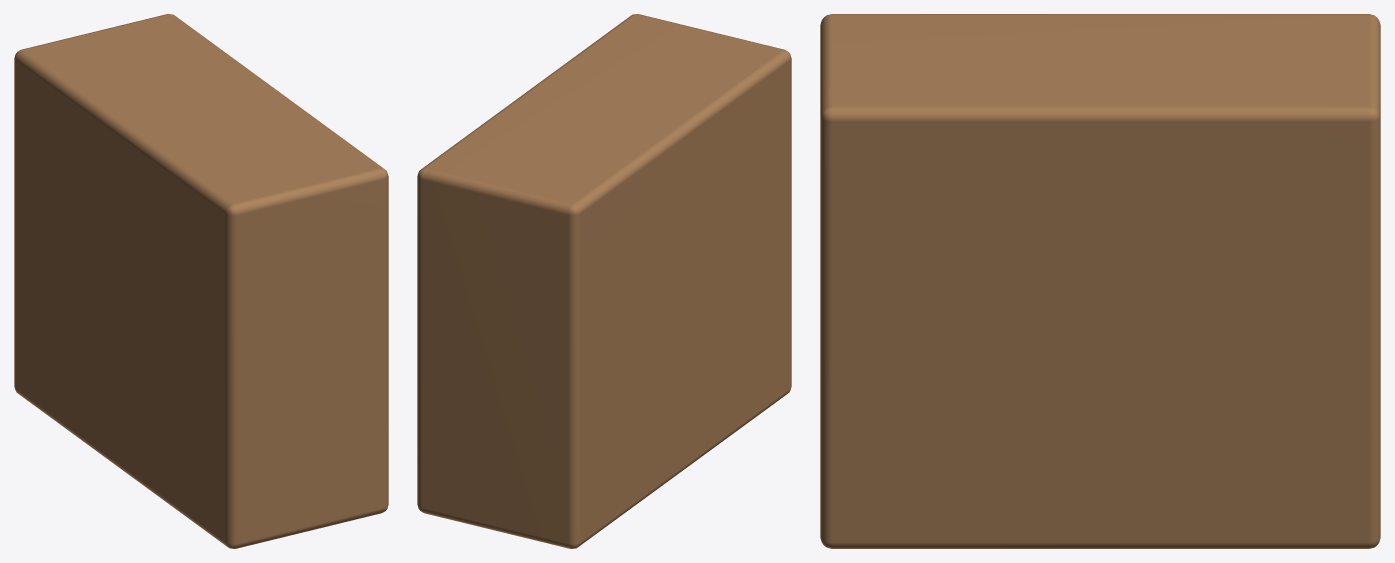
File: SM_EG_Impulse_display_69234da7c4.fbx
3 renders of one model, left to right at view 1: azimuth 30°, elevation 25°; view 2: azimuth 150°, elevation 25°; view 3: azimuth 270°, elevation 25°, orthographic. The views are drawn at different scales.
Visible parts, largest first — view 1: SM_EG_Impulse_display_69234da7c4; view 2: SM_EG_Impulse_display_69234da7c4; view 3: SM_EG_Impulse_display_69234da7c4.
Part boxes in pixels (x1,y1,x2,y2): SM_EG_Impulse_display_69234da7c4: [14, 14, 388, 548]; SM_EG_Impulse_display_69234da7c4: [417, 14, 791, 548]; SM_EG_Impulse_display_69234da7c4: [820, 14, 1380, 548].
Size of the model in its own units: 62 by 145 by 126.
